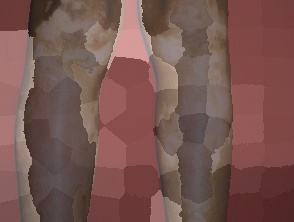vitiligo: (0, 0, 127, 222), (133, 0, 251, 222)
